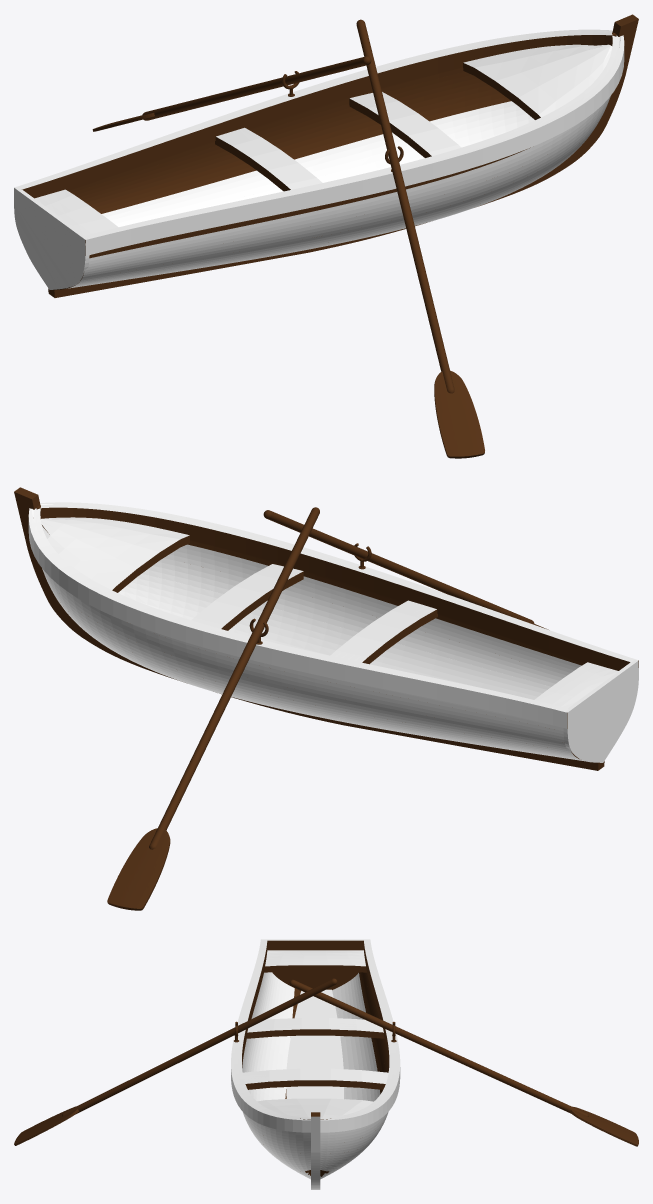
The model's file is boat.obj.
The picture shows the model from 3 angles, top to bottom: view 1: azimuth 30°, elevation 25°; view 2: azimuth 150°, elevation 25°; view 3: azimuth 270°, elevation 25°; orthographic projection. The views are drawn at different scales.
Parts seen in each view (by area): view 1: Object.2, Object.1; view 2: Object.2, Object.1; view 3: Object.2, Object.1.
Part boxes in pixels (x1,y1,x2,y2): Object.2: [14, 14, 638, 458]; Object.1: [92, 56, 371, 131]; Object.2: [14, 487, 638, 770]; Object.1: [107, 507, 319, 910]; Object.2: [14, 939, 400, 1189]; Object.1: [289, 979, 638, 1146].
Size of the model in its own units: 379 by 162 by 459.
